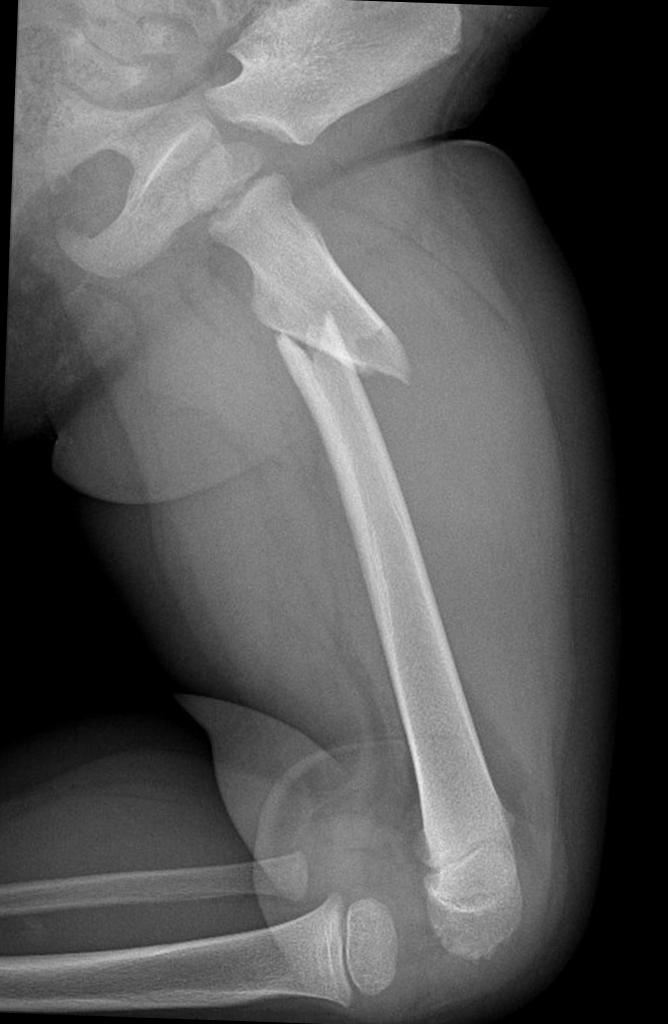messed_up_angle: (268, 308, 417, 384)
